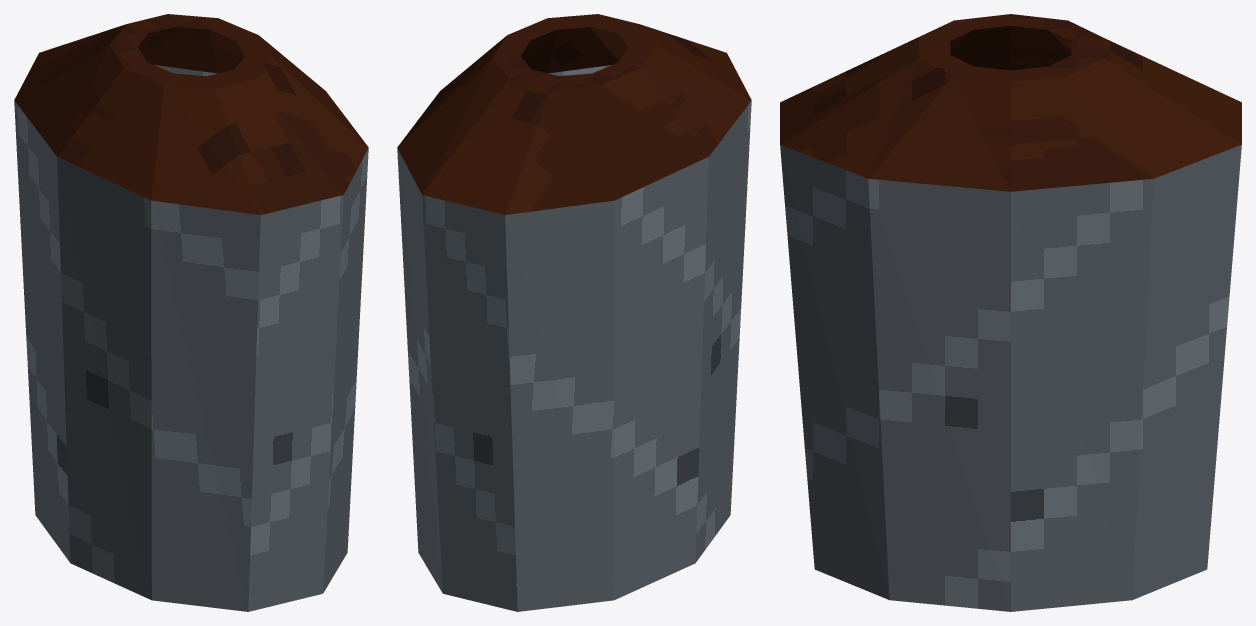
File: malla.glb
3 views of the same model, side by side, from view 1: azimuth 30°, elevation 25°; view 2: azimuth 150°, elevation 25°; view 3: azimuth 270°, elevation 25° (orthographic). The views are drawn at different scales.
Parts seen in each view (by area): view 1: coraza, cuello; view 2: coraza, cuello; view 3: coraza, cuello.
Boxes of the visible parts, <box> form: coraza: <box>14,65,368,611</box>; cuello: <box>14,14,368,214</box>; coraza: <box>397,65,751,611</box>; cuello: <box>397,14,751,214</box>; coraza: <box>780,144,1241,611</box>; cuello: <box>780,14,1241,191</box>.
Bounding box in the file's own units: 0.35 × 0.6 × 0.5.
Materials: 1 (1 with a texture image).
